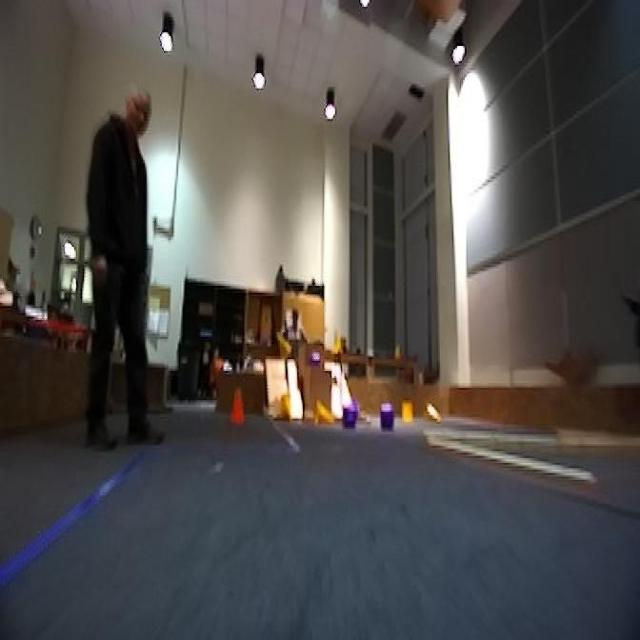frc_cone: (274, 329, 294, 359), (423, 400, 445, 422), (279, 393, 292, 422), (400, 398, 414, 424), (316, 402, 332, 422), (333, 327, 344, 354)
frc_cube: (345, 395, 359, 425), (379, 405, 394, 429), (308, 352, 322, 370)
